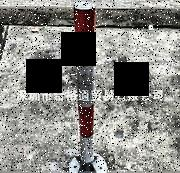bench: (70, 2, 99, 164)
